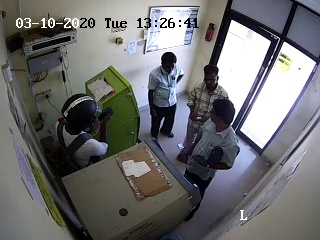helmet: (59, 89, 106, 135)
